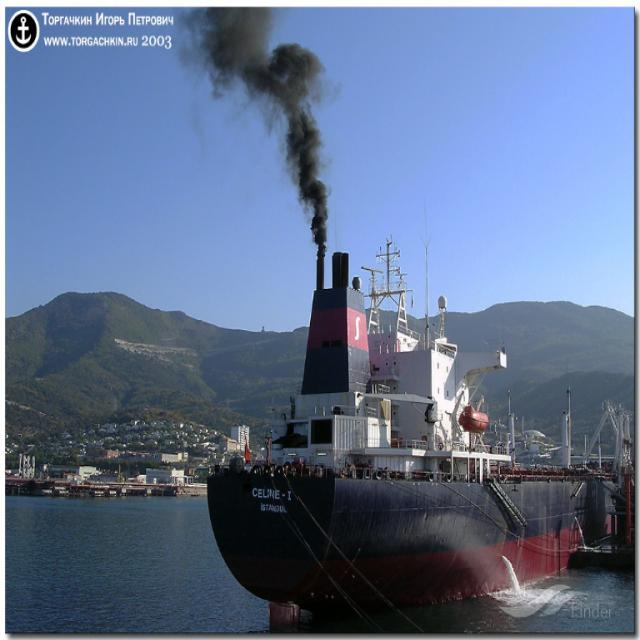OCR: (250, 480, 298, 520)
